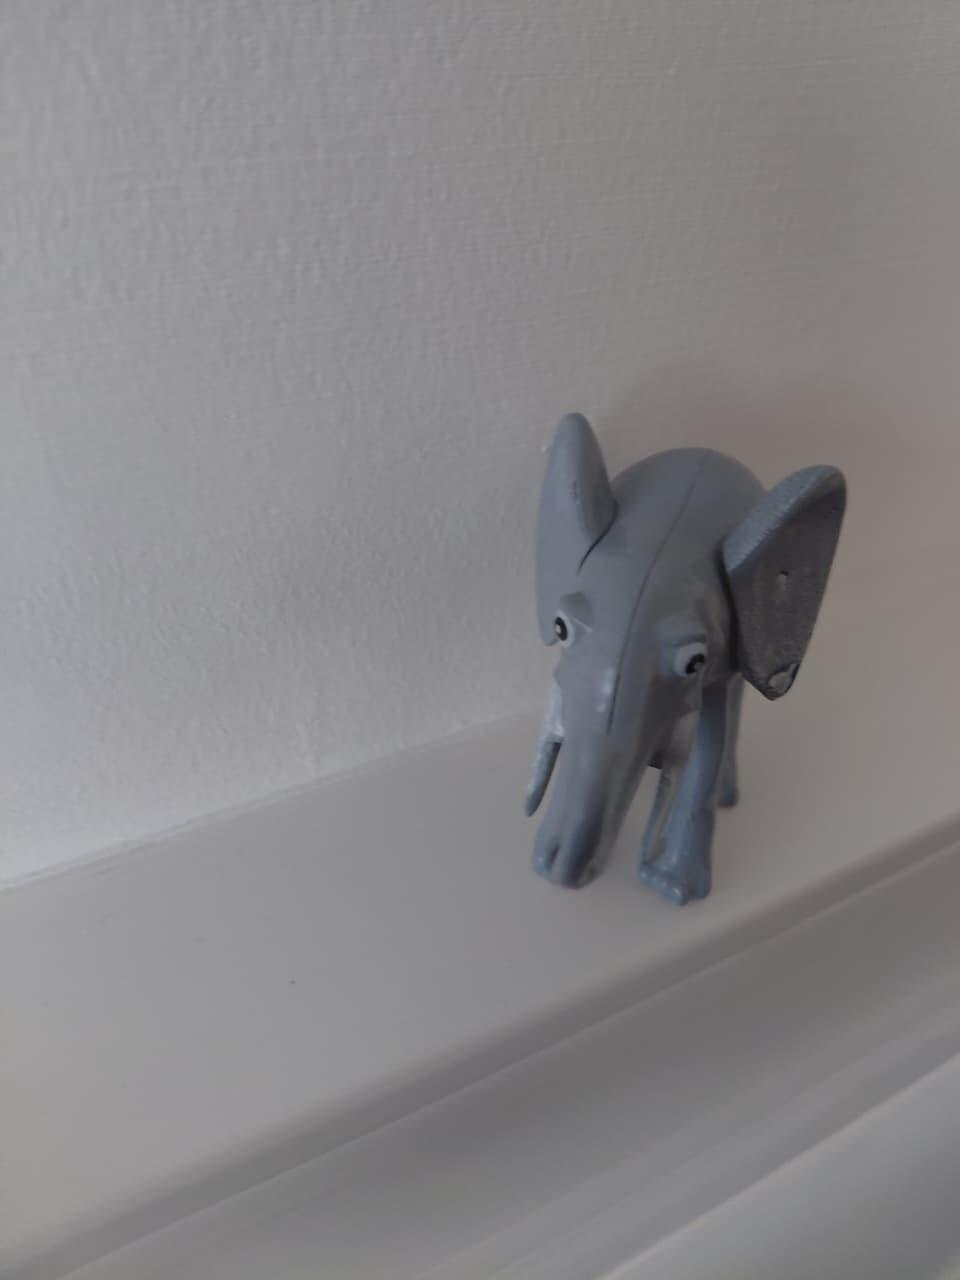elephant: (453, 383, 860, 975)
